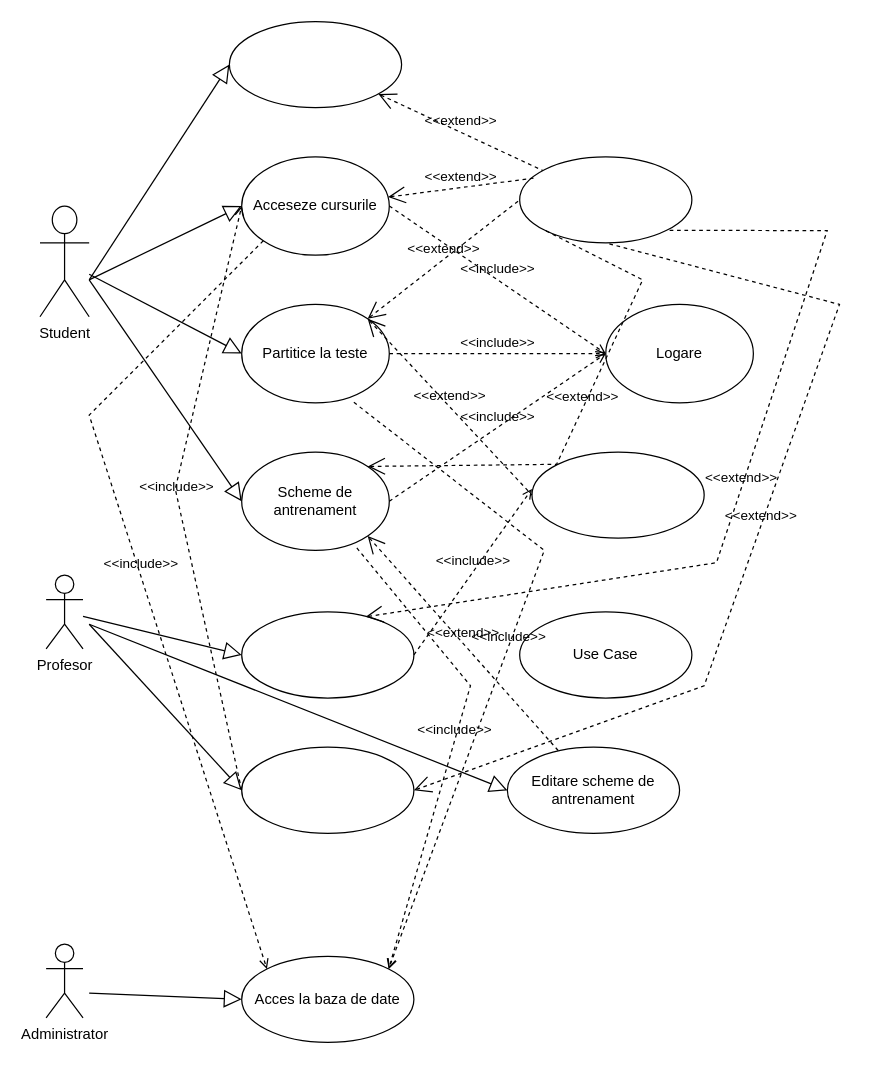
Some shapes in this 878 by 1065 pixel diagram are drawn without their labels. Here are the shapes that lost their labels. From the top down, the box of each, then its label:
(228, 20, 402, 108): Inregistrare
(518, 156, 692, 243): Selectare limba
(531, 451, 704, 538): Rezultatele testelor
(240, 611, 414, 698): Redactare/Creare teste
(240, 746, 414, 833): Redacteze cursurile
